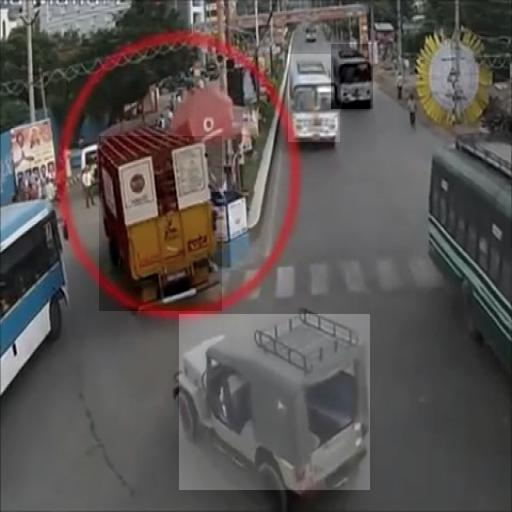小汽车: (179, 314, 370, 490), (99, 136, 222, 311), (288, 54, 340, 142), (331, 44, 373, 109)
